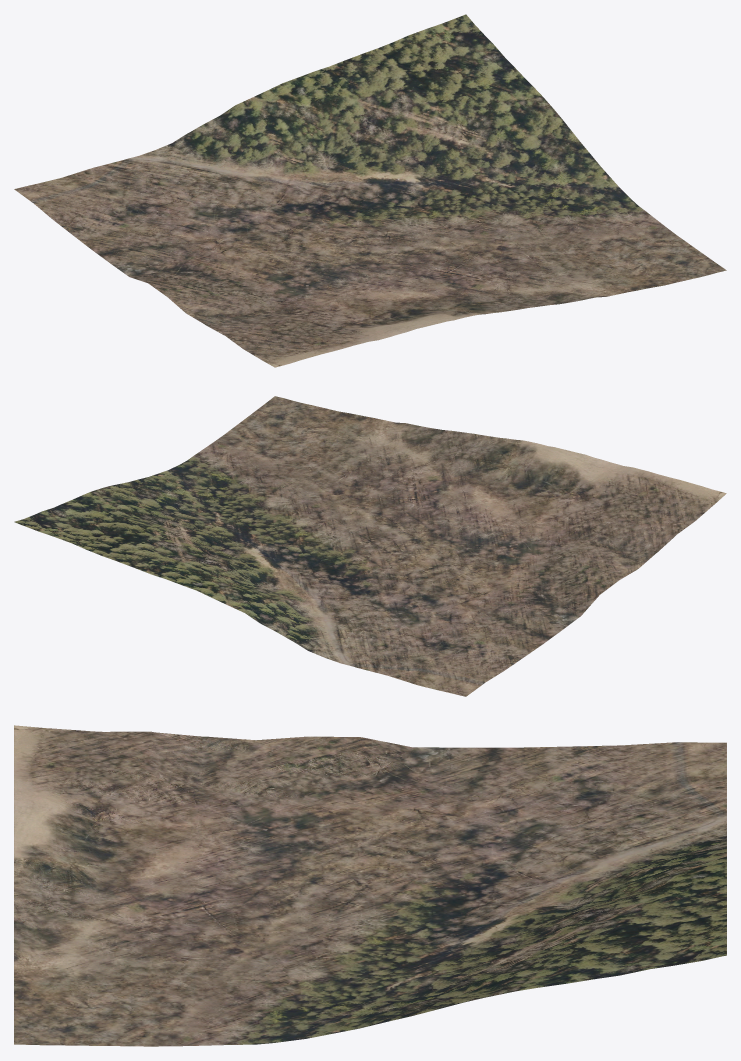
The model's file is CM_Terrain_24492097_6818770.fbx.
The picture shows the model from 3 angles, top to bottom: view 1: azimuth 30°, elevation 25°; view 2: azimuth 150°, elevation 25°; view 3: azimuth 270°, elevation 25°; orthographic projection. The views are drawn at different scales.
Visible parts, largest first — view 1: CM_Terrain_24492097_6818770_LOD0; view 2: CM_Terrain_24492097_6818770_LOD0; view 3: CM_Terrain_24492097_6818770_LOD0.
Part boxes in pixels (x1,y1,x2,y2): CM_Terrain_24492097_6818770_LOD0: (14,14,726,367); CM_Terrain_24492097_6818770_LOD0: (14,396,726,696); CM_Terrain_24492097_6818770_LOD0: (14,725,726,1046).
Size of what is drawn, in the model's own units: 205 by 29.68 by 205.
